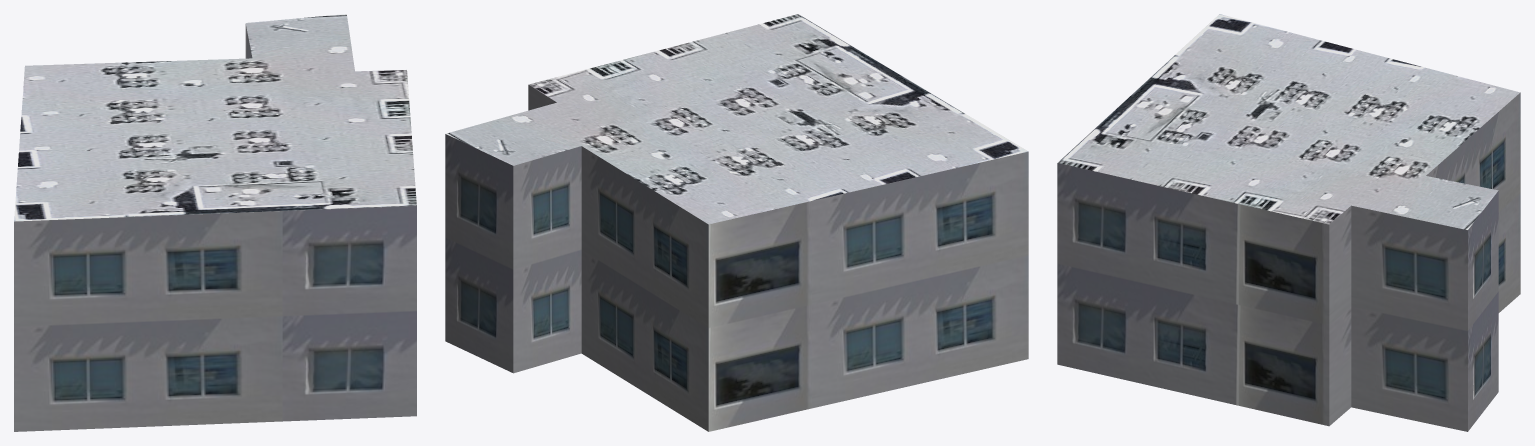
Rendered from ResTex__2627.fbx.
3 renders of one model, left to right at view 1: azimuth 30°, elevation 25°; view 2: azimuth 150°, elevation 25°; view 3: azimuth 270°, elevation 25°, orthographic. The views are drawn at different scales.
Visible parts, largest first — view 1: CityEngineMaterial_10_m, CityEngineMaterial_2_m; view 2: CityEngineMaterial_10_m, CityEngineMaterial_2_m; view 3: CityEngineMaterial_10_m, CityEngineMaterial_2_m.
Boxes of the visible parts, x1,y1,x2,y2 form: CityEngineMaterial_10_m: (14,24,416,431); CityEngineMaterial_2_m: (14,14,416,221); CityEngineMaterial_10_m: (445,85,1028,431); CityEngineMaterial_2_m: (445,14,1028,224); CityEngineMaterial_10_m: (1057,92,1520,431); CityEngineMaterial_2_m: (1058,14,1519,229).
Bounding box in the file's own units: 13.79 × 6 × 12.48.
2 materials, 2 textured.
